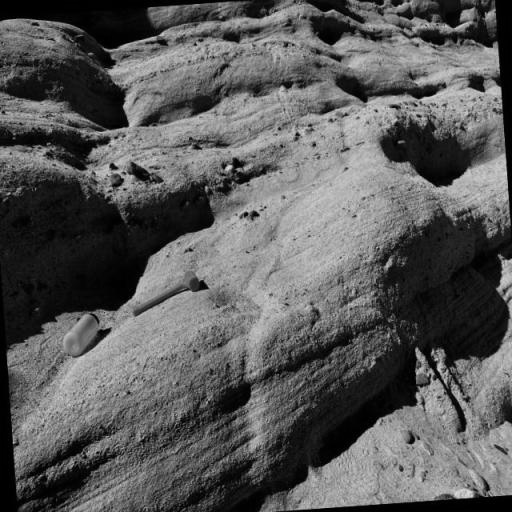bottle: (60, 312, 102, 358)
mallet: (130, 270, 202, 316)
